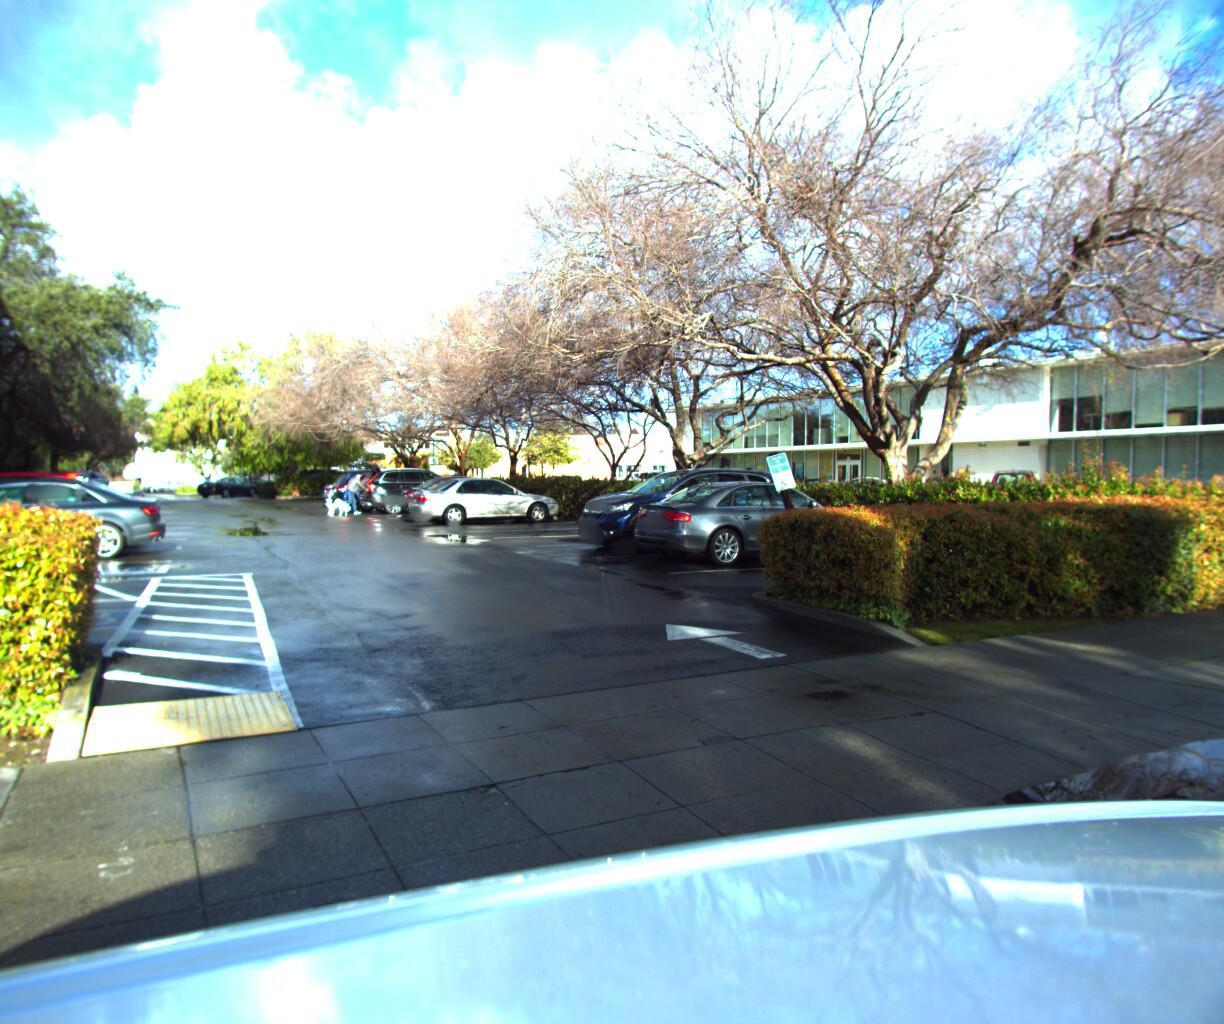car: (620, 471, 878, 569)
